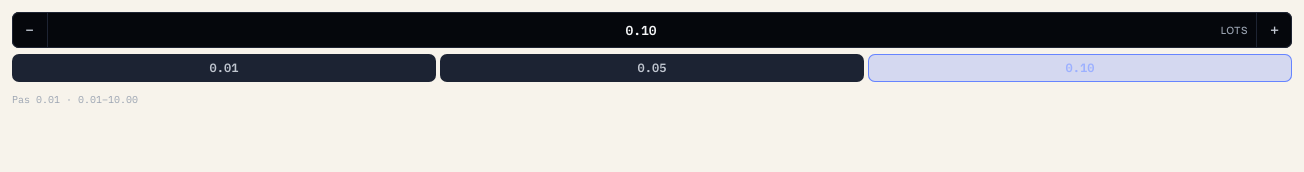
Test: QuantityControl › steps up and down by exactly one lot step
Click the button named "Augmenter la quantité".
click(1274, 30)  # box left=1256, top=12, right=1292, bottom=48
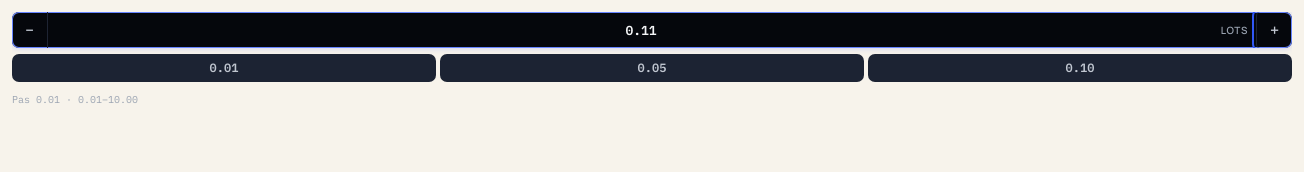
Now the field named "Quantité (lots)" holds "0.11", box left=48, top=12, right=1256, bottom=48
Click the button named "Diminuer la quantité".
click(30, 30)  # box left=12, top=12, right=48, bottom=48
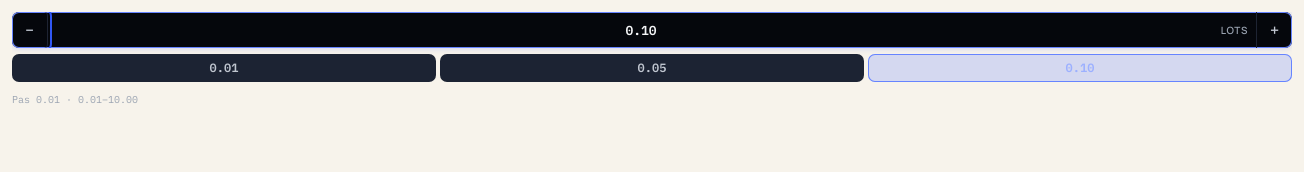
Now the field named "Quantité (lots)" holds "0.10", box left=48, top=12, right=1256, bottom=48
